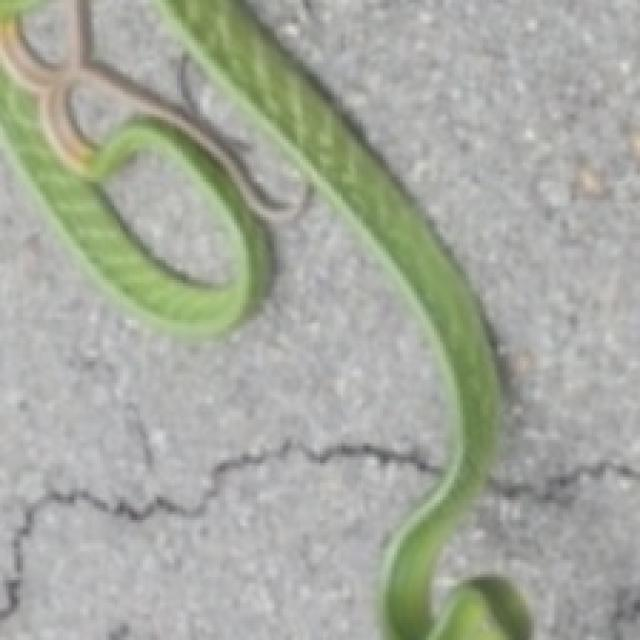red-tailed green ratsnake: (157, 0, 529, 637), (0, 0, 277, 334)
